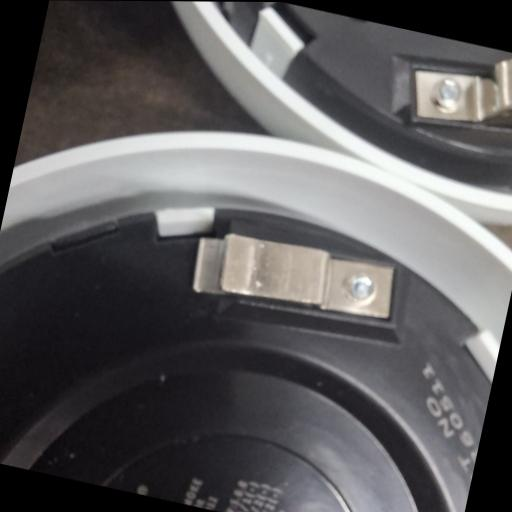yayli: (188, 220, 401, 334)
